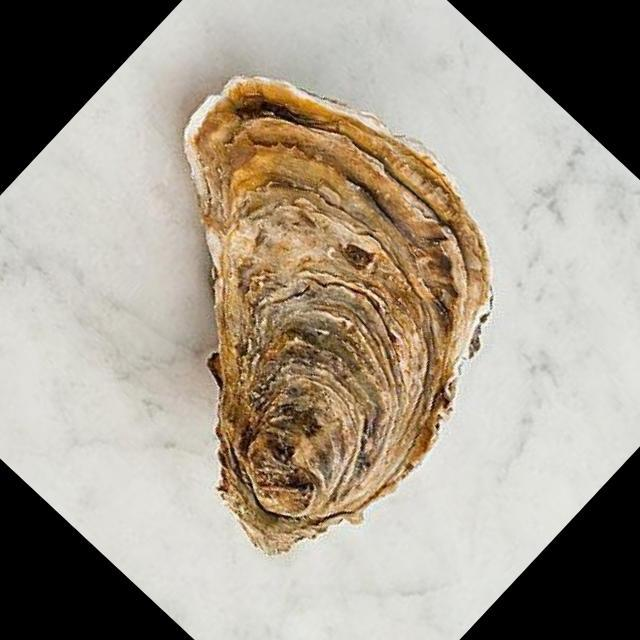Oyster- Indeterminate: (0, 6, 592, 600)
